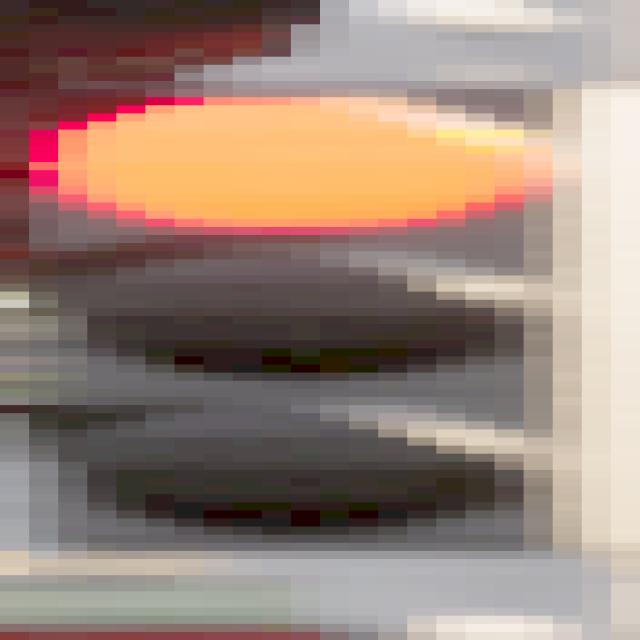red_light: (0, 75, 595, 582)
